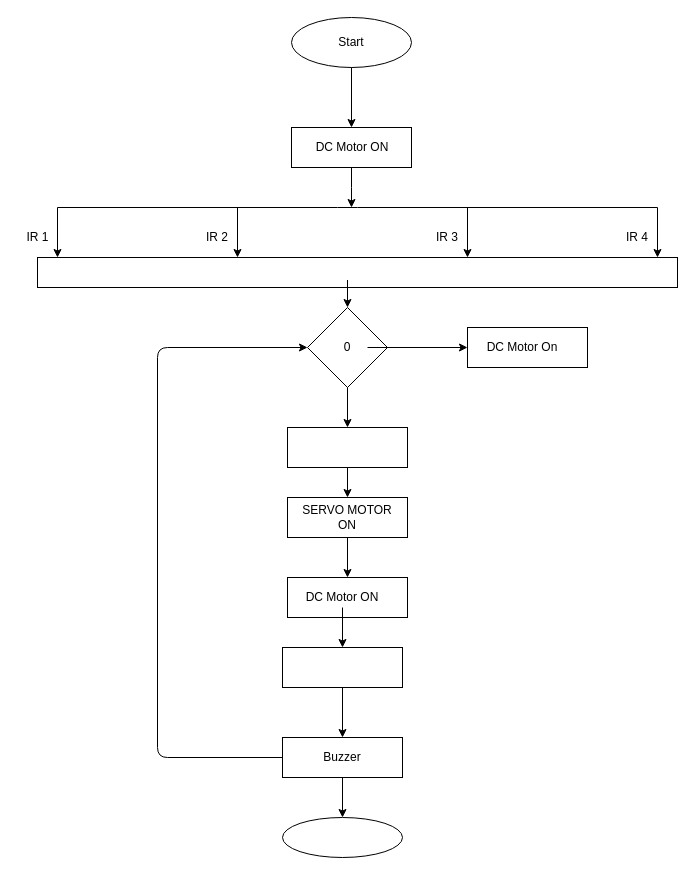
Image size: 695x875. Some labels were removed from this diagram. The centre of each missing label's shape, as x and y in pixels:
"4 Times" goes at [342,667].
"DC Motor OFF" goes at [347,447].
"Input from IR Sensor" goes at [357,272].
"Stop" goes at [342,837].
